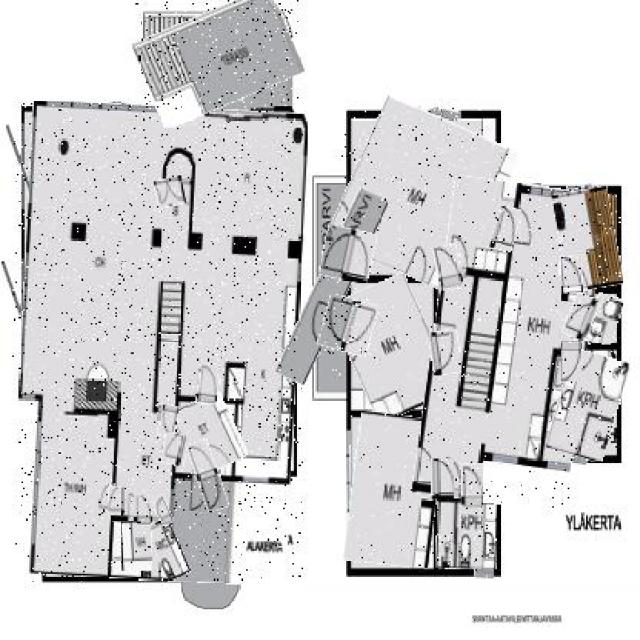door: (320, 297, 375, 355), (320, 228, 375, 282), (190, 440, 224, 511), (566, 294, 597, 340), (436, 243, 462, 291), (431, 331, 460, 374), (492, 208, 520, 250), (460, 463, 483, 508), (560, 338, 582, 382), (197, 363, 220, 405), (156, 177, 187, 208), (431, 458, 454, 498), (560, 257, 582, 294), (162, 434, 188, 464), (158, 405, 178, 437), (134, 497, 152, 528), (108, 486, 124, 516), (154, 496, 171, 524)
window: (12, 258, 34, 377), (34, 429, 54, 548), (14, 124, 32, 210), (504, 454, 538, 466), (511, 185, 542, 197), (566, 186, 594, 199), (117, 103, 148, 114), (402, 106, 423, 122), (563, 454, 586, 466), (34, 103, 58, 114), (89, 103, 117, 112), (442, 106, 458, 120), (148, 105, 172, 114), (422, 108, 440, 120), (348, 434, 350, 541), (474, 568, 494, 578), (60, 106, 86, 112), (382, 111, 398, 120), (24, 398, 38, 408), (178, 486, 182, 514), (495, 471, 500, 492), (292, 262, 298, 278)
zone: (15, 103, 303, 582), (425, 180, 597, 509), (337, 108, 508, 286), (135, 0, 298, 115), (338, 277, 444, 418), (295, 186, 368, 386), (348, 414, 442, 566), (552, 351, 623, 460), (555, 188, 620, 290), (176, 394, 242, 474), (437, 502, 497, 569), (149, 517, 186, 580), (588, 294, 620, 344), (121, 520, 152, 571)
